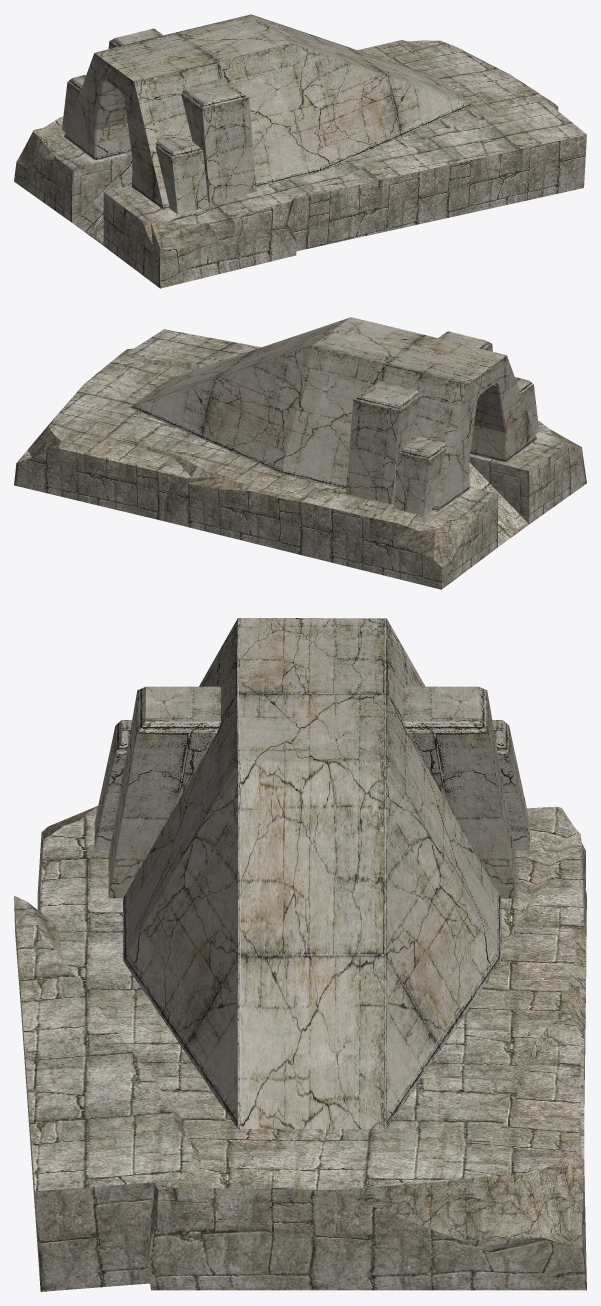
File: thm_yavn_jedi_enclave_light_r0_mesh_r0_l1.fbx
The picture shows the model from 3 angles, top to bottom: view 1: azimuth 30°, elevation 25°; view 2: azimuth 150°, elevation 25°; view 3: azimuth 270°, elevation 25°; orthographic projection. The views are drawn at different scales.
Parts seen in each view (by area): view 1: mesh_node; view 2: mesh_node; view 3: mesh_node.
Part boxes in pixels (x1,y1,x2,y2): mesh_node: (14,14,586,288); mesh_node: (14,317,586,589); mesh_node: (14,618,586,1291).
Bounding box in the file's own units: 16.37 × 6 × 10.05.
